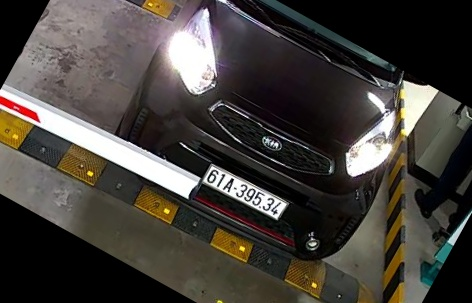plate: (201, 164, 289, 221)
